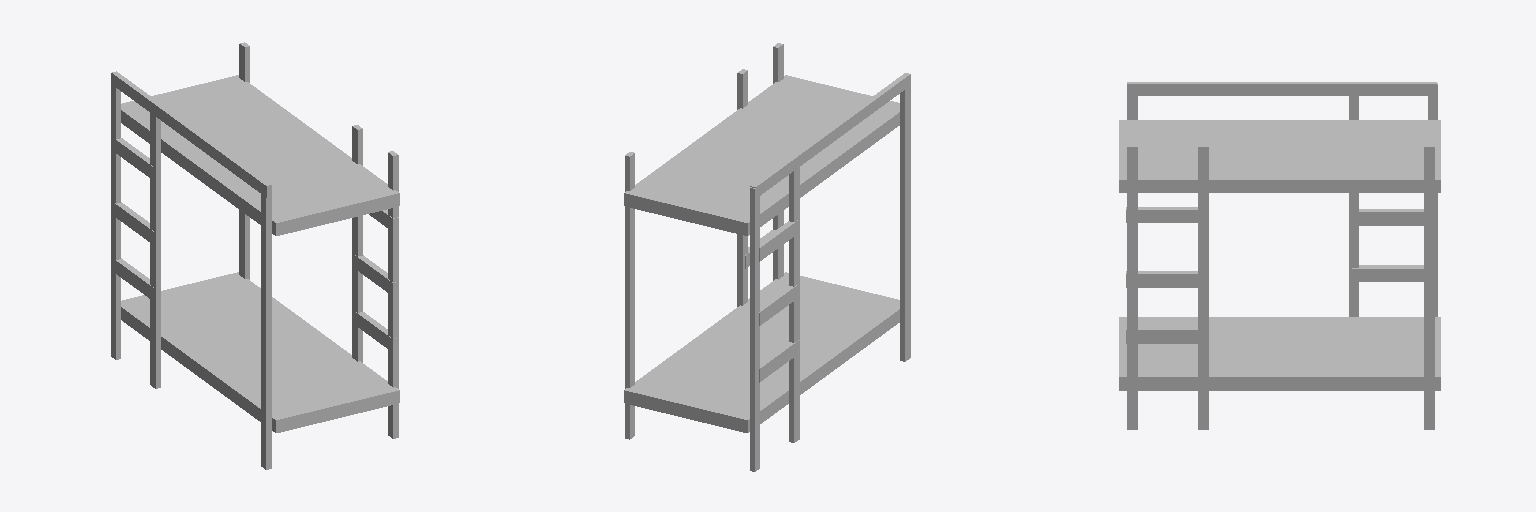
Rendered from bed.obj.
The picture shows the model from 3 angles: view 1: azimuth 30°, elevation 25°; view 2: azimuth 150°, elevation 25°; view 3: azimuth 270°, elevation 25°; orthographic projection.
Parts seen in each view (by area): view 1: Cube.002_Cube, Cube.009_Cube.009; view 2: Cube.002_Cube, Cube.009_Cube.009; view 3: Cube.002_Cube, Cube.009_Cube.009.
Boxes of the visible parts, x1=… form: Cube.002_Cube: x1=121, y1=75, x2=399, y2=432; Cube.009_Cube.009: x1=111, y1=42, x2=398, y2=469; Cube.002_Cube: x1=624, y1=75, x2=899, y2=432; Cube.009_Cube.009: x1=625, y1=43, x2=910, y2=471; Cube.002_Cube: x1=1119, y1=120, x2=1440, y2=390; Cube.009_Cube.009: x1=1126, y1=82, x2=1437, y2=429.
Bounding box in the file's own units: 0.4092 × 0.8345 × 0.8594.